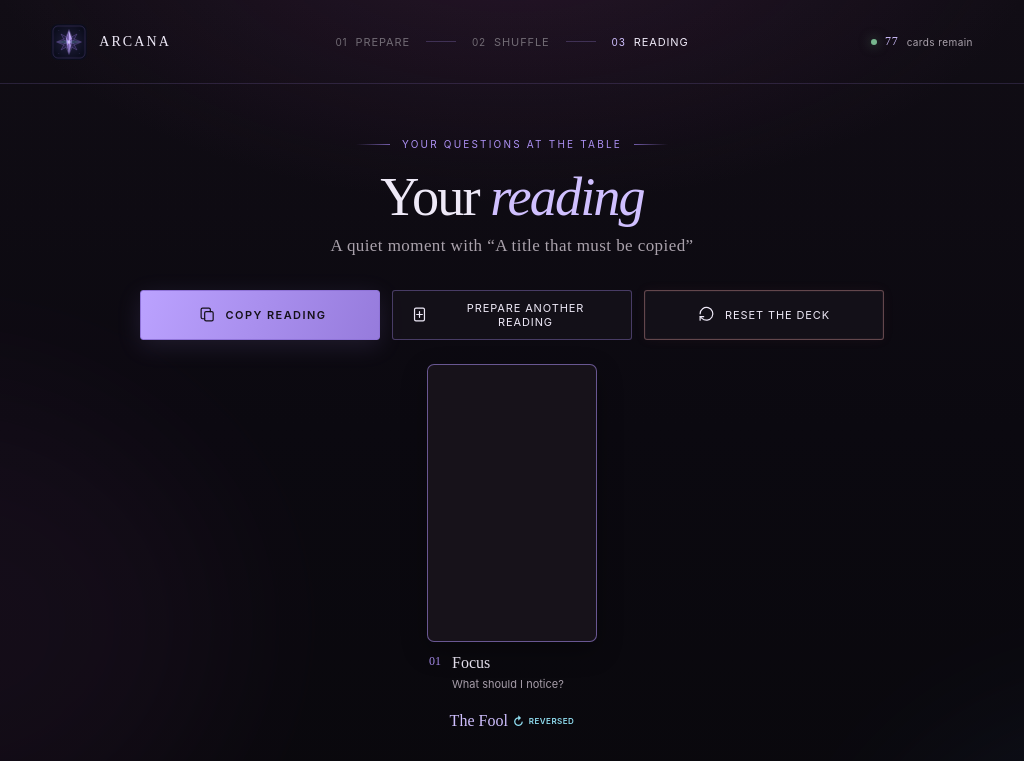
Test case: reading copy notifications › shows clipboard failures as error toasts
Click the button "Copy reading" at (260, 315), box [140,290,380,340]
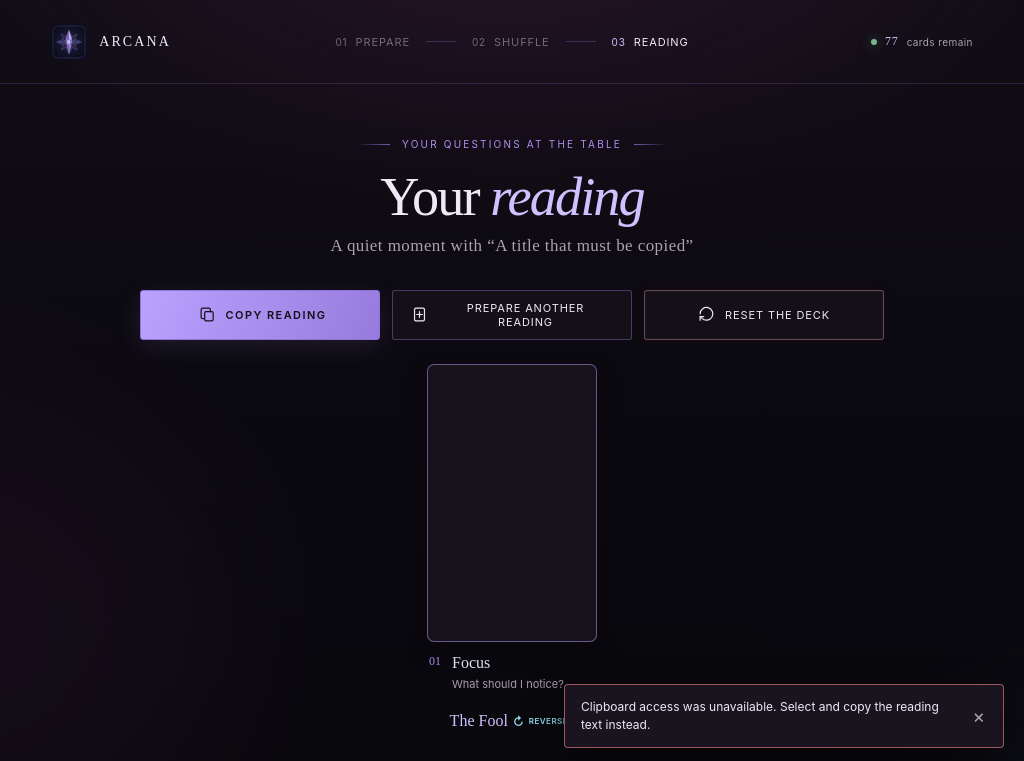
Now the message "Clipboard access was unavailable. Select and copy the reading text instead. ×" is shown, box [564,684,1004,748]
